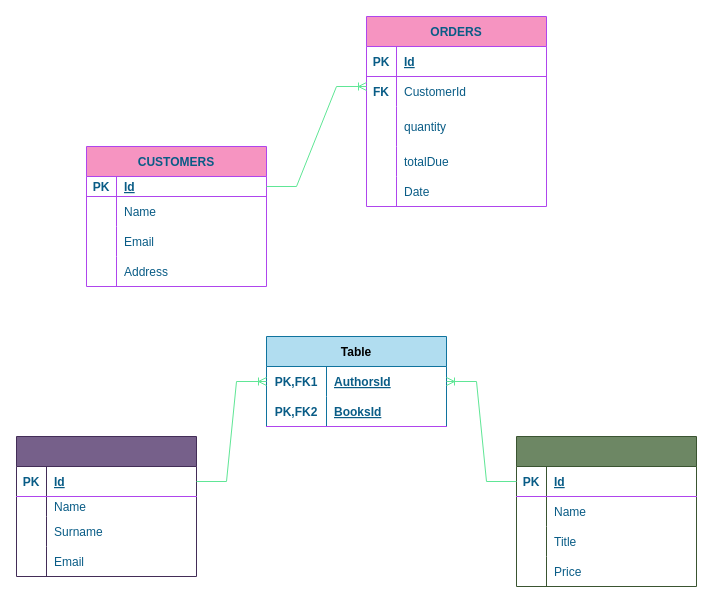
Some shapes in this 713 by 603 pixel diagram are drawn without their labels. The box of each missing label's shape, as (x1, y1, x2, y2) in pixels:
Authors: (16, 436, 196, 576)
Books: (516, 436, 696, 586)
